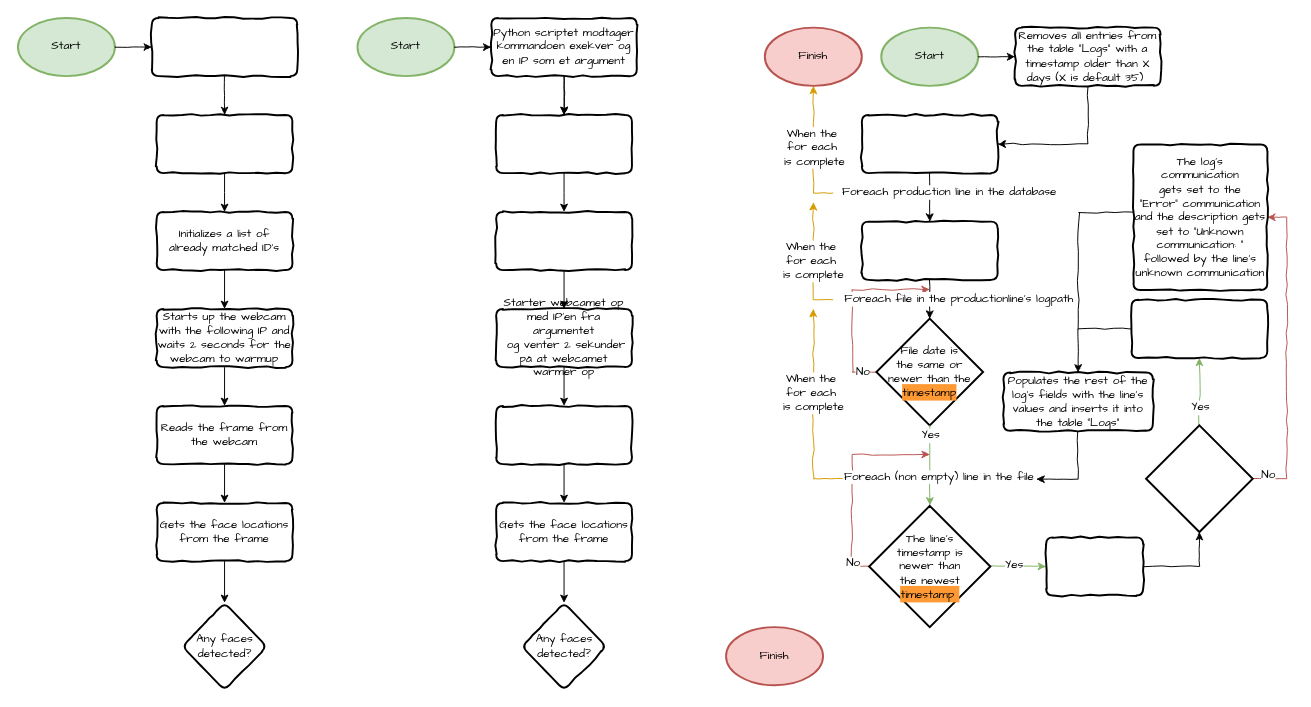
Image size: 1311x707. Some labels were removed from this diagram. The box of each missing label's shape, as (x1, y1, x2, y2) in pixels:
Gets all production lines from the database: (860, 113, 998, 174)
Gets the timestamp from the production line's newest log: (860, 220, 998, 280)
Indlæser den færdigtrænede model data: (495, 113, 632, 174)
Initialisere en ny liste af genkendte ID'er: (495, 210, 632, 271)
Loads the pretrained model data: (155, 113, 293, 174)
Læser: (495, 404, 632, 465)
Python script receives execute command plus an IP as an argument: (150, 16, 298, 77)
Sets the log's communication to the matching communication from the database: (1130, 298, 1268, 358)
The line's communication exists in the database: (1145, 424, 1253, 533)
The timestamp gets set to the line's timestamp: (1045, 536, 1144, 596)
